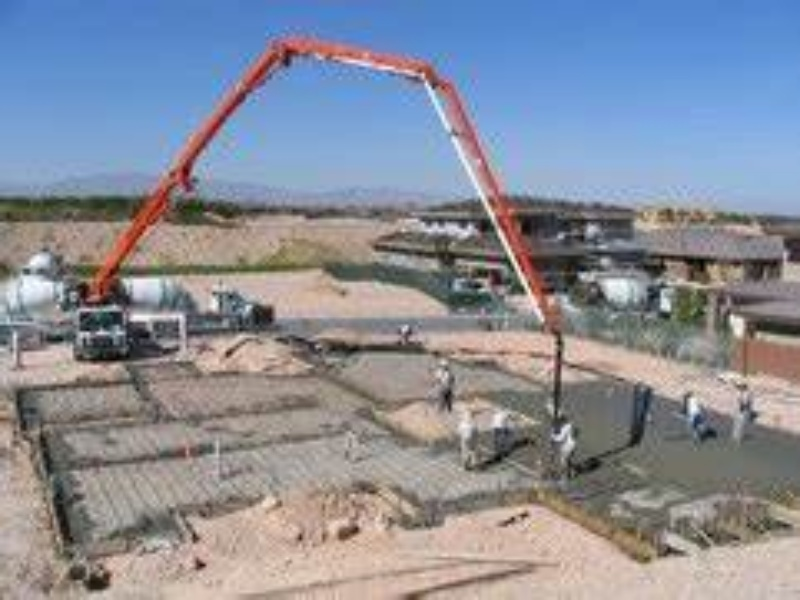pump truck: (72, 35, 565, 363)
